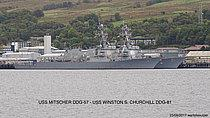MIL_Ship: (13, 23, 163, 69), (112, 25, 188, 69)
